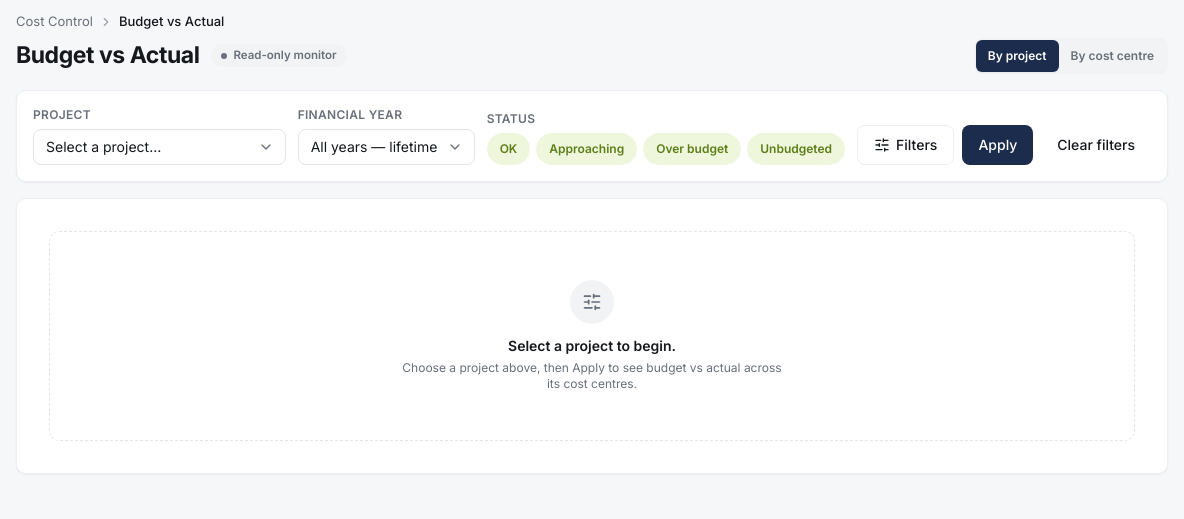
BudgetVsActualScreen — context gate + grouping (FR-CC-008) › renders cost-centre-grouped rows after selecting a project and applying
Select "BR-04 — Bridge-04 — Buriganga" in the dropdown with test id "bva-project" at (159, 146), box top-left (33, 128), bottom-right (286, 164)
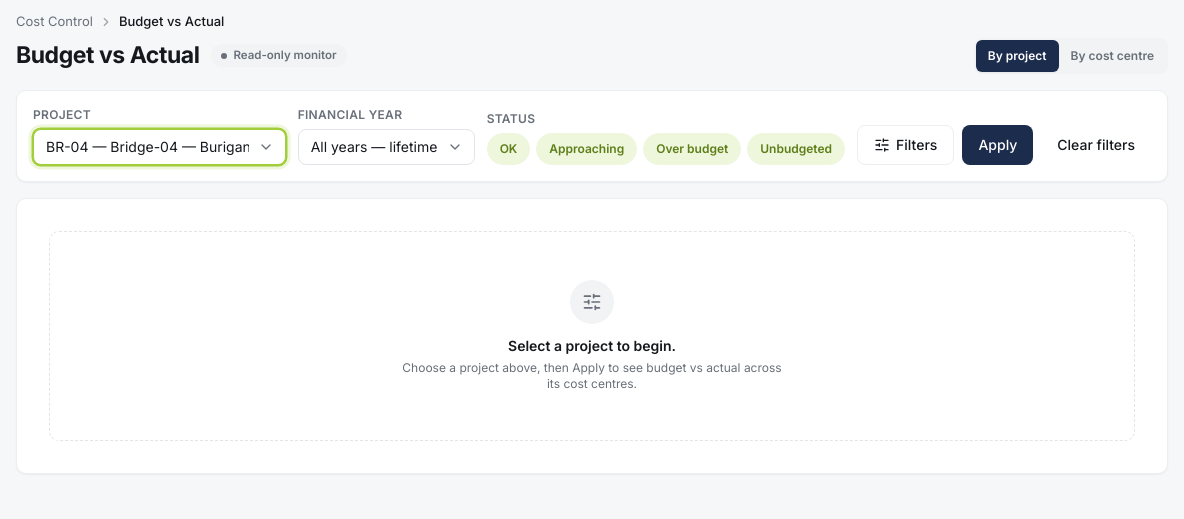
Click the button with test id "bva-apply".
click(998, 144)  # box top-left (962, 124), bottom-right (1033, 164)
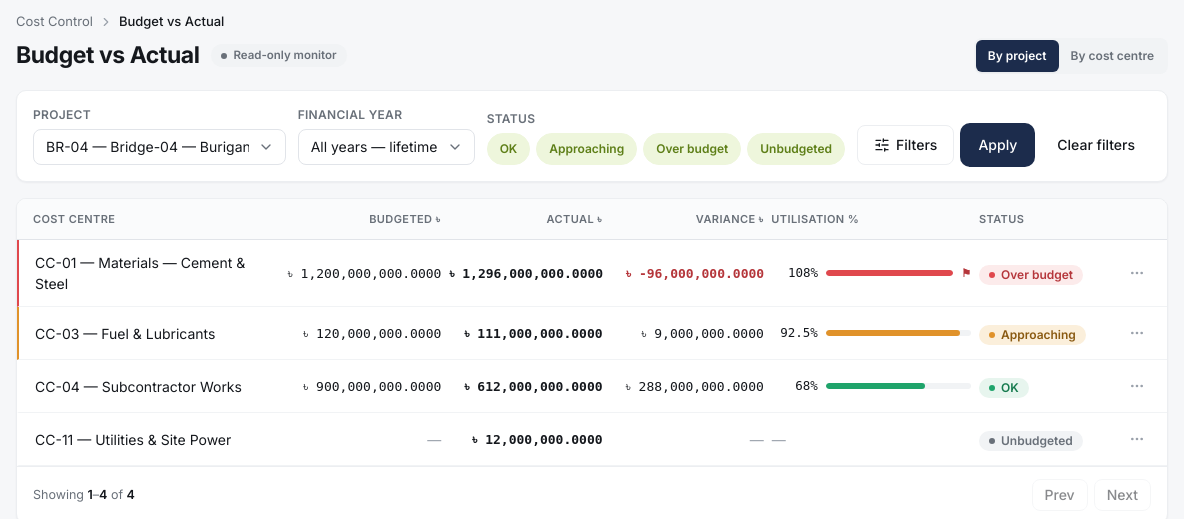
Expected: the element with test id "bva-table" is shown, top-left (17, 198), bottom-right (1167, 466)
Expected: the link "CC-01 — Materials — Cement & Steel" is shown, top-left (35, 254), bottom-right (245, 292)
Expected: the link "CC-04 — Subcontractor Works" is shown, top-left (35, 378), bottom-right (242, 394)
